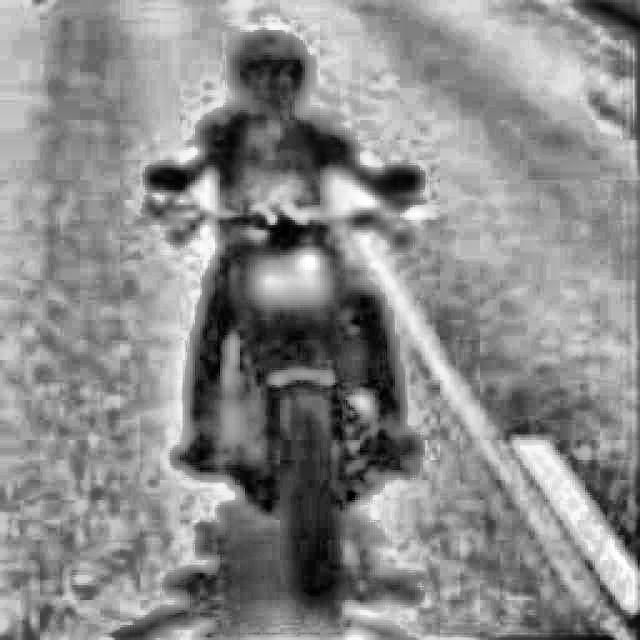motorcycle: (118, 146, 470, 593)
